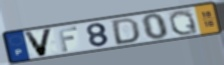0: (139, 13, 171, 41)
8: (86, 22, 111, 48)
D: (111, 17, 141, 46)
F: (55, 25, 79, 53)
Q: (167, 9, 200, 37)
V: (22, 27, 55, 58)
